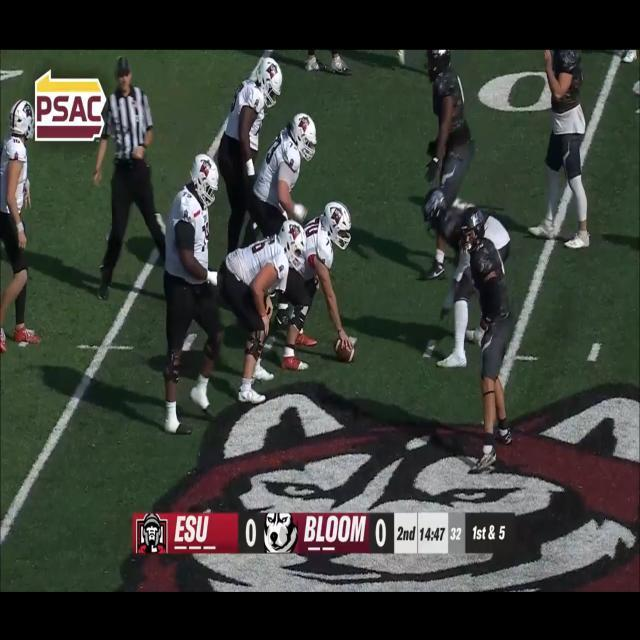football: (332, 338, 357, 364)
